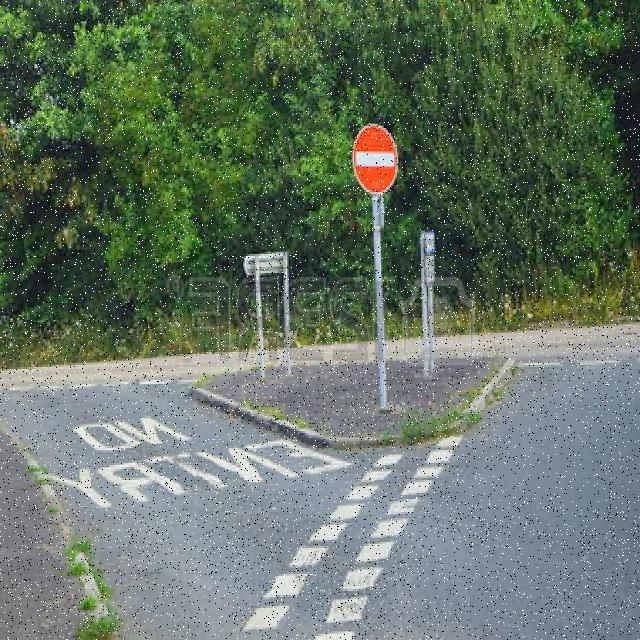no entry: (352, 124, 400, 194)
